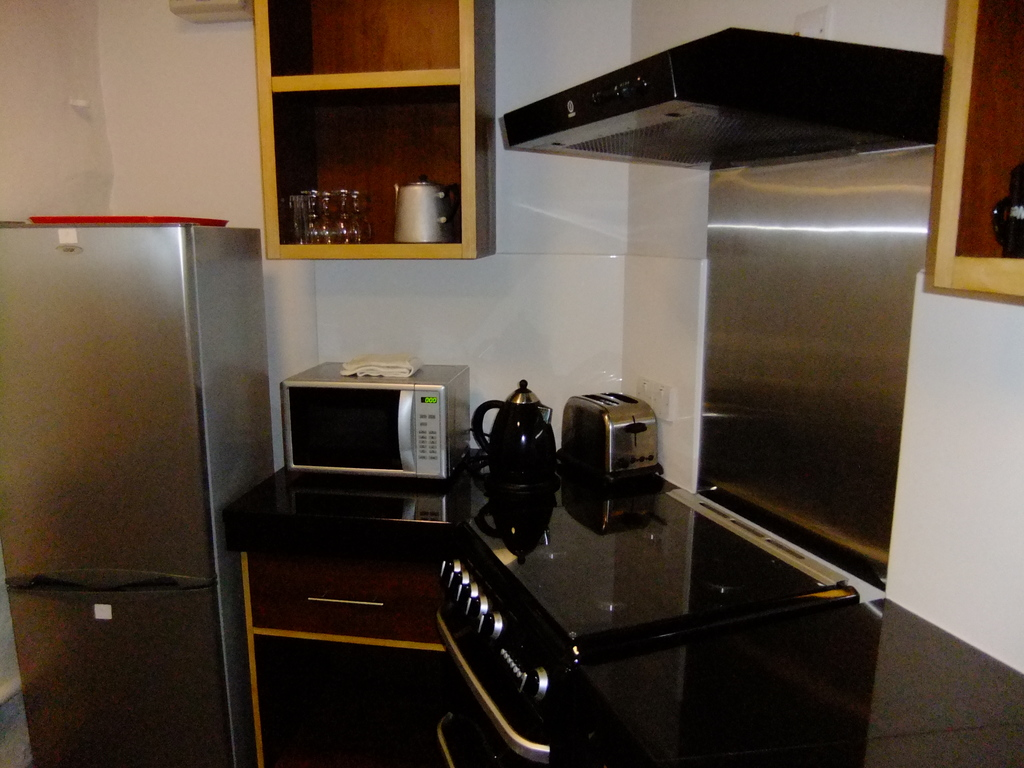cabinet door: (263, 12, 478, 255), (267, 571, 428, 628)
handle: (43, 562, 189, 612), (307, 579, 395, 620), (392, 394, 414, 450)
refrigerator door: (8, 226, 204, 570), (23, 587, 218, 768)
